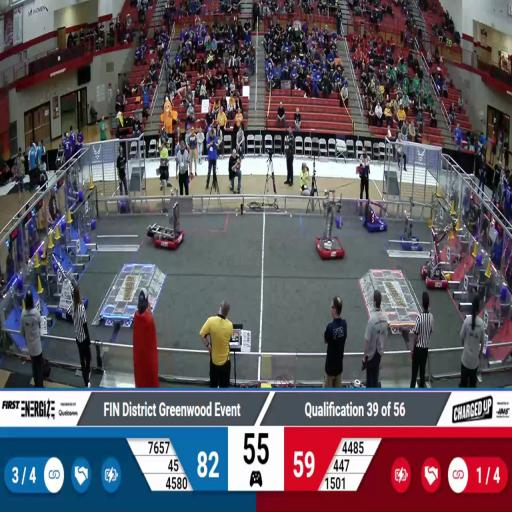robot: (48, 250, 90, 324), (422, 216, 458, 294), (144, 188, 187, 252), (313, 188, 349, 263), (399, 196, 439, 250), (360, 194, 392, 237)
